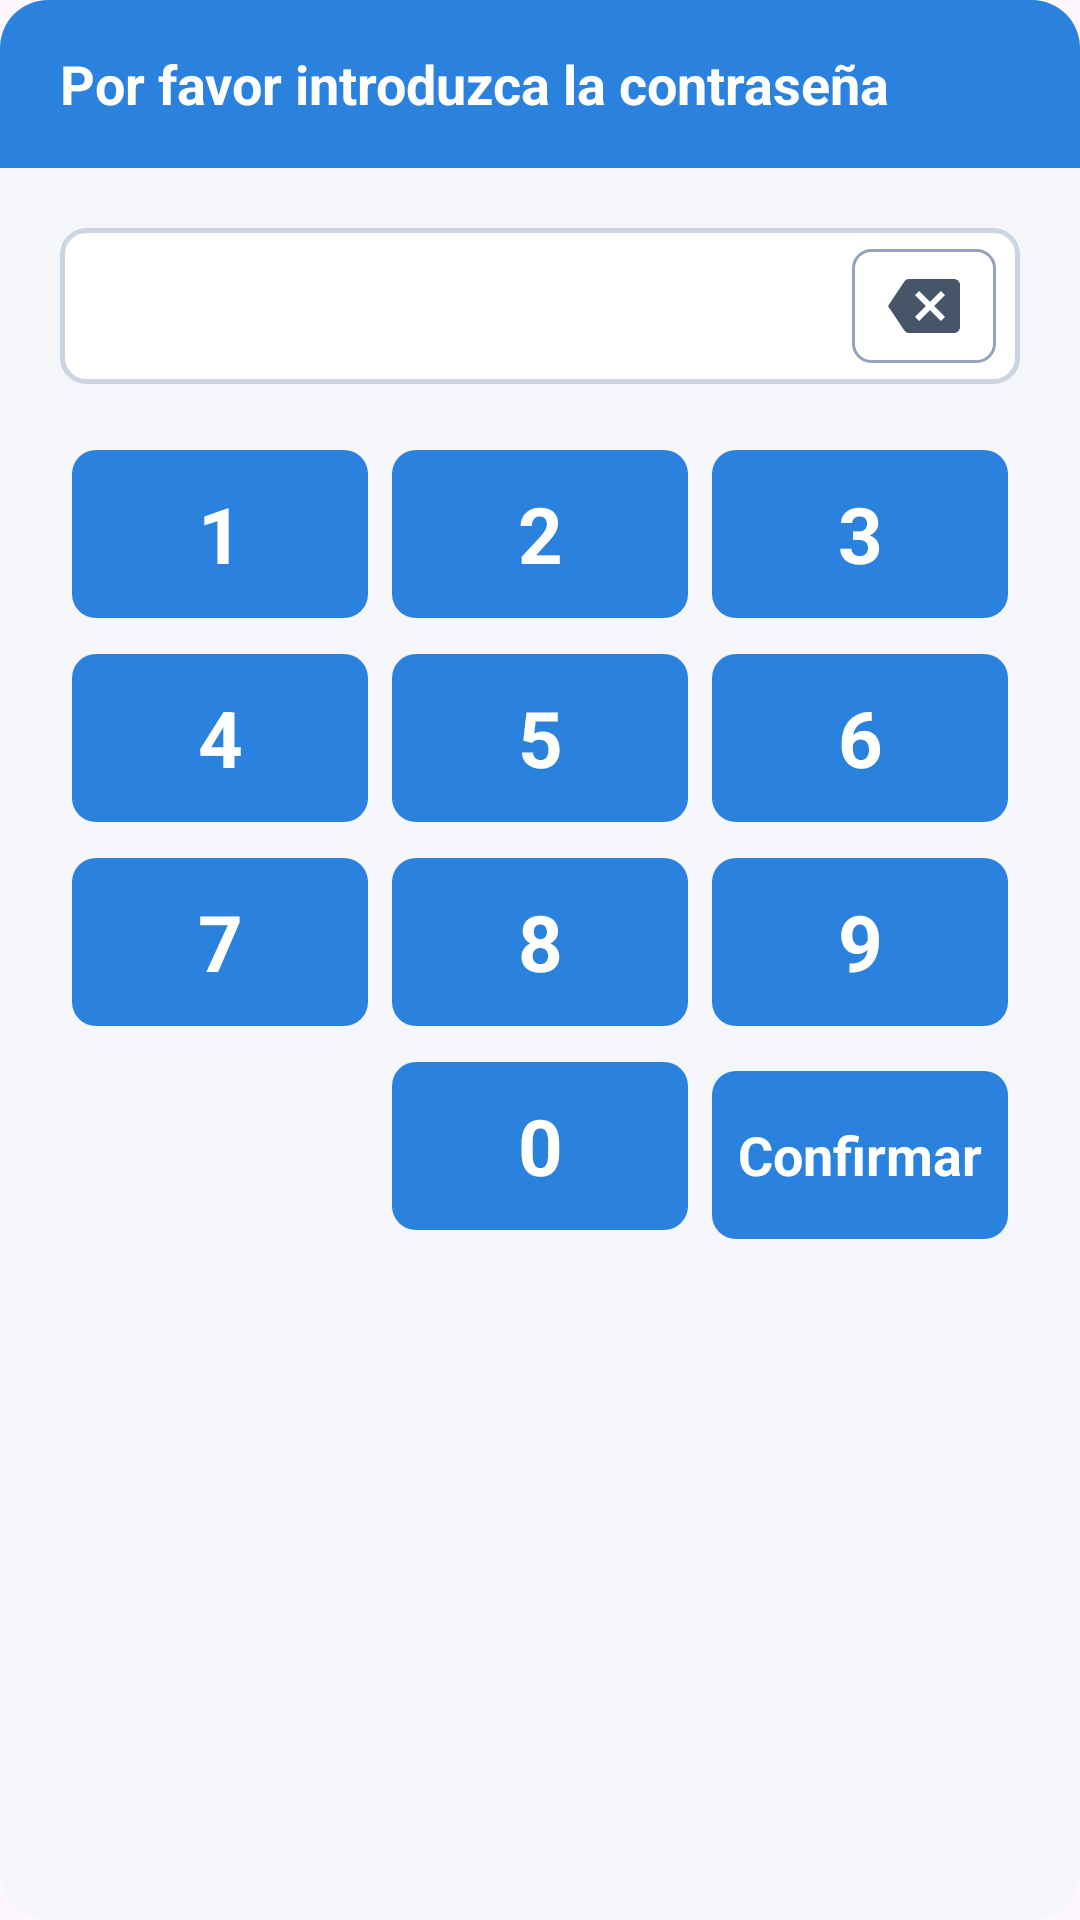

Icons on this 1080x1920 Android screen, each with its box as (x1, y1, x2, y2):
Borrar: (852, 249, 996, 363)
